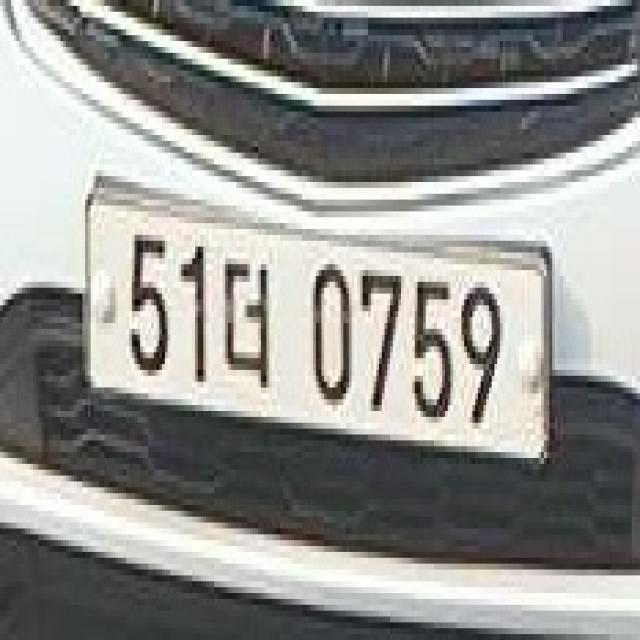0: (306, 254, 354, 416)
1: (175, 230, 212, 395)
5: (124, 222, 172, 382), (411, 268, 456, 428)
7: (358, 259, 404, 422)
9: (458, 280, 504, 430)
deo: (218, 252, 280, 409)
license_plate: (80, 157, 566, 485)
